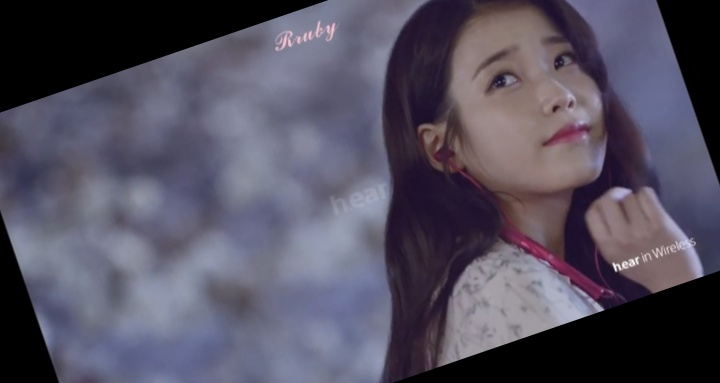earphone: (415, 112, 472, 180)
